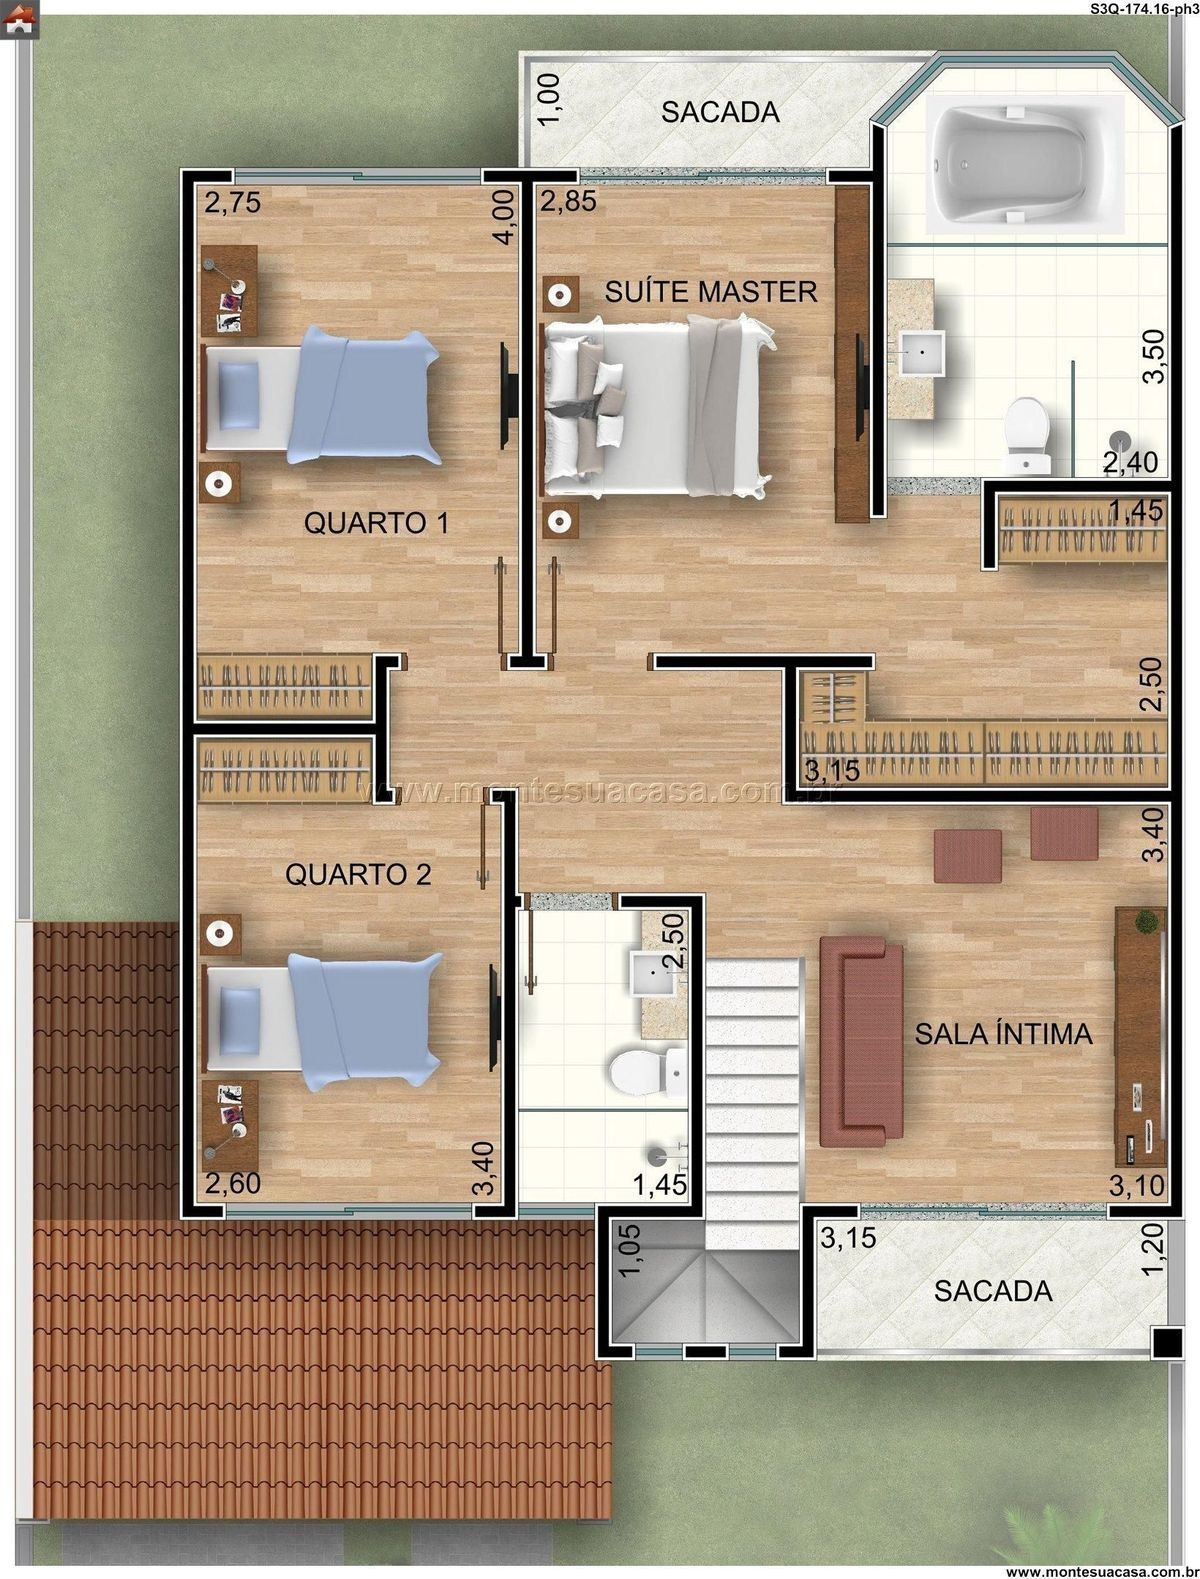room: (521, 168, 885, 667), (182, 170, 532, 665), (179, 789, 519, 1219), (503, 893, 705, 1219)
window: (227, 1202, 475, 1221), (860, 1202, 1108, 1221), (234, 168, 482, 187)
